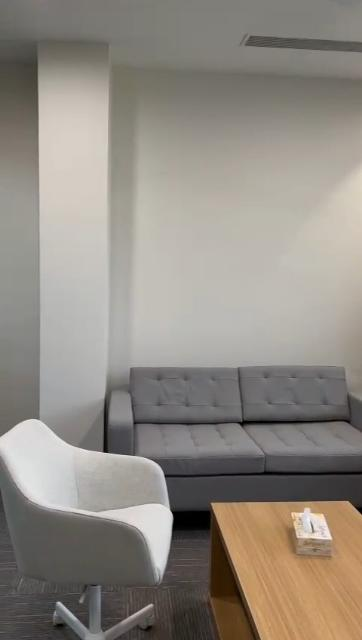object: (0, 400, 164, 640), (120, 357, 362, 491), (182, 492, 362, 640)
wall: (7, 50, 362, 370)
